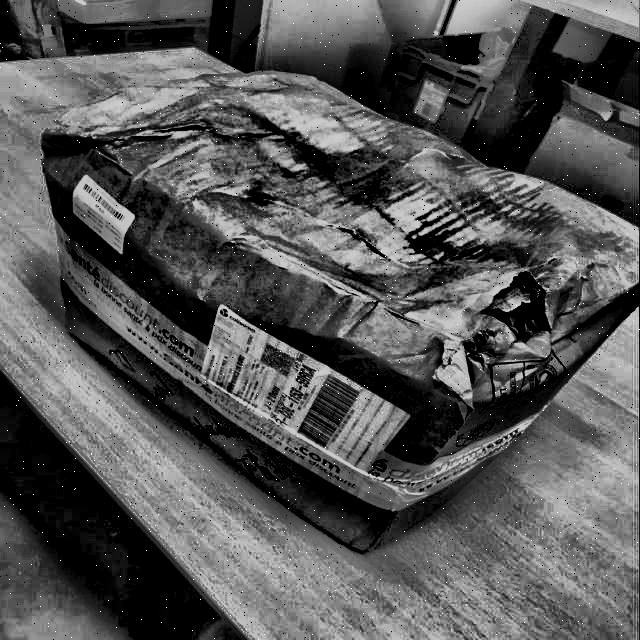box: (23, 63, 640, 508)
hole: (443, 267, 566, 417)
